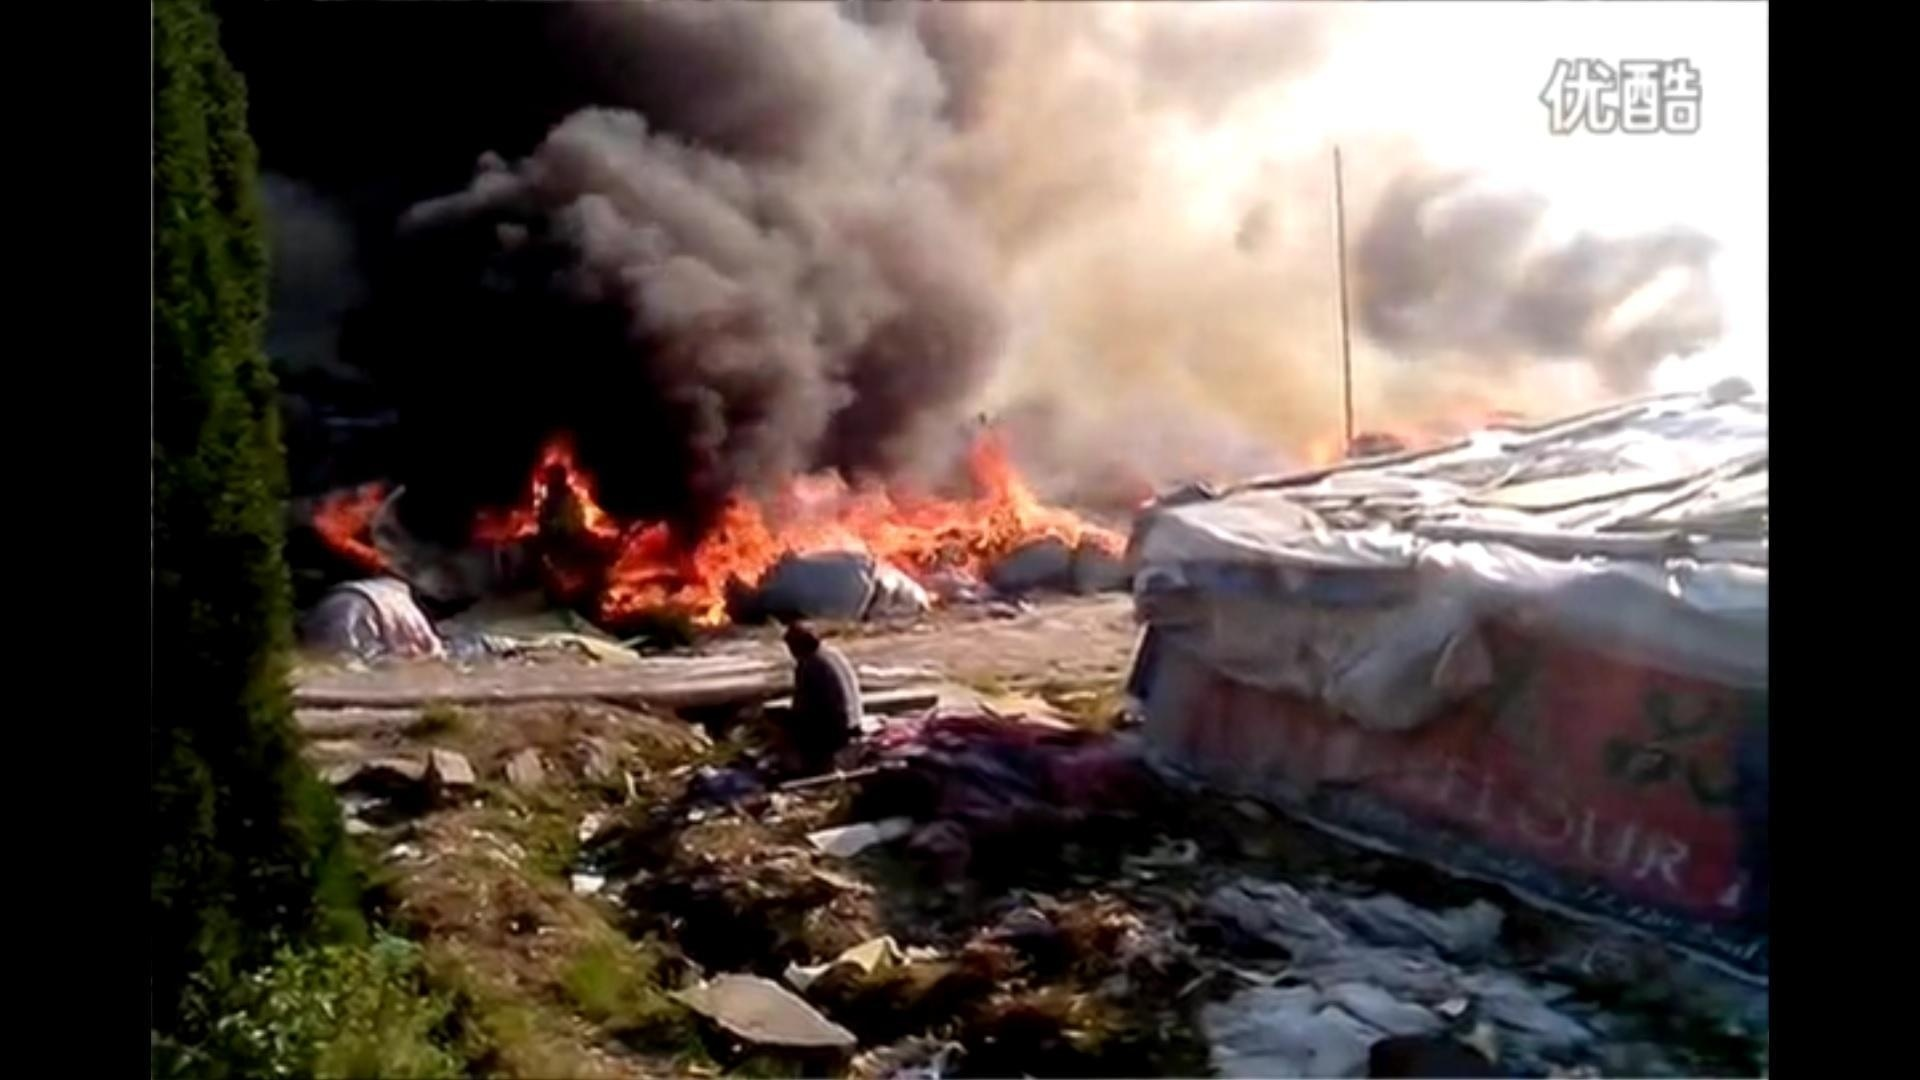fire: (483, 440, 1129, 625), (315, 483, 396, 568)
